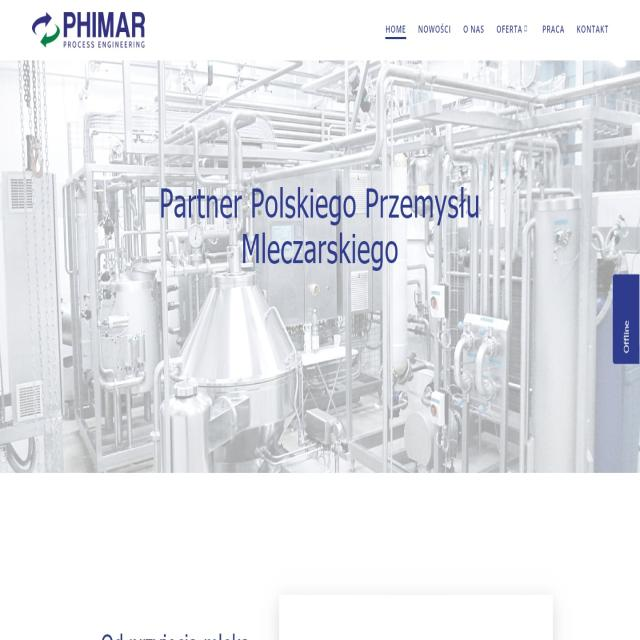button: (492, 18, 532, 44), (414, 17, 452, 44), (573, 18, 612, 44), (534, 18, 571, 42), (379, 18, 411, 44), (455, 18, 489, 42)
heading: (157, 180, 483, 272), (61, 6, 146, 37)
image: (1, 54, 638, 474), (25, 1, 60, 49)
text: (63, 36, 145, 52), (623, 317, 632, 357)
